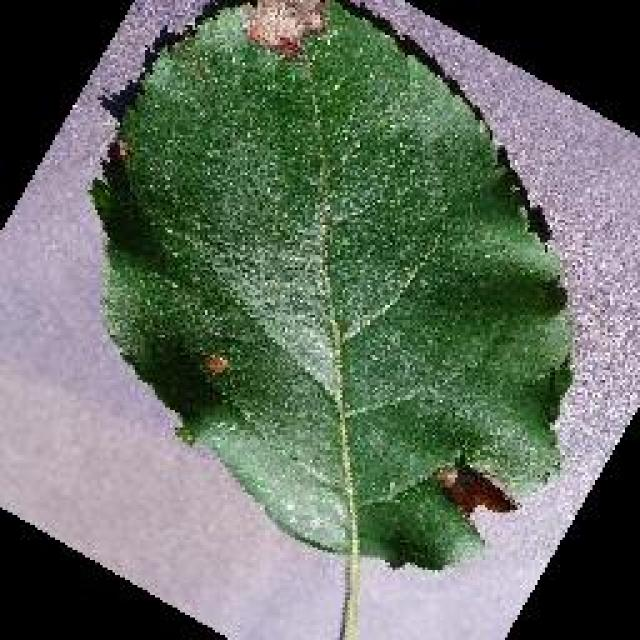Black_rot: (88, 0, 572, 575)
